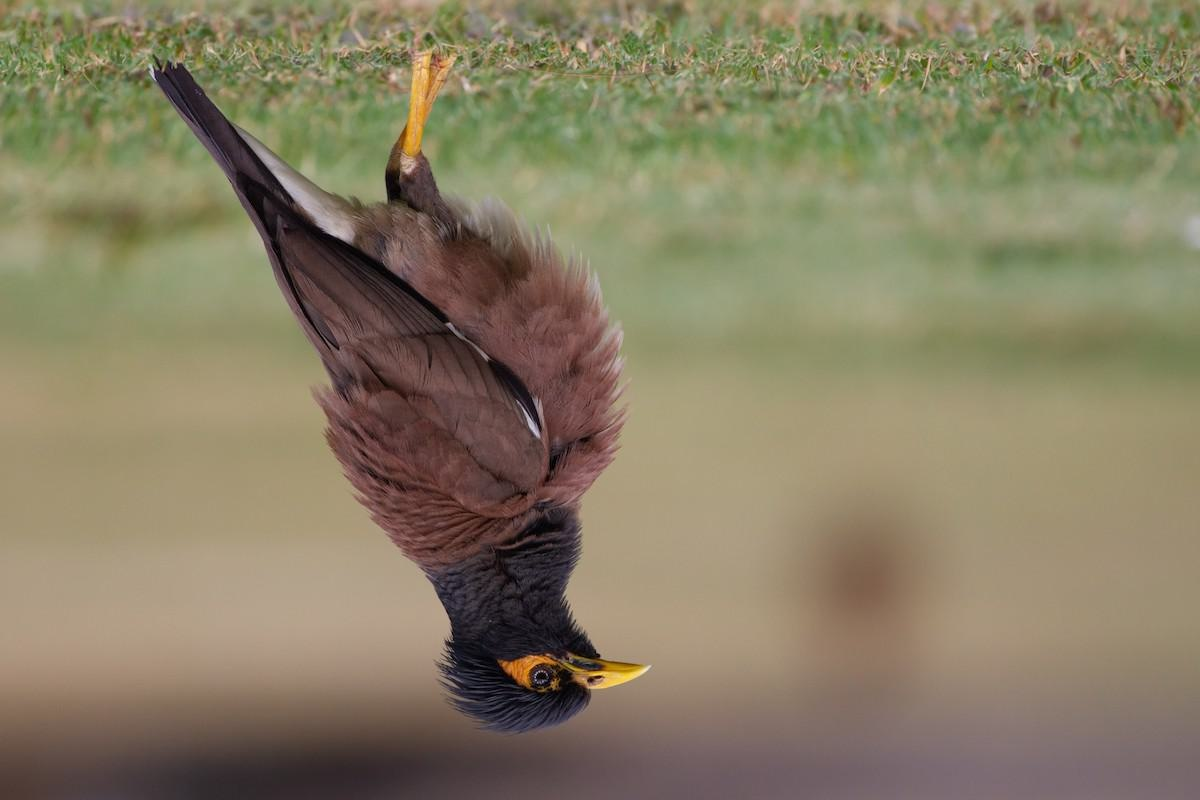myna: (270, 107, 644, 714)
